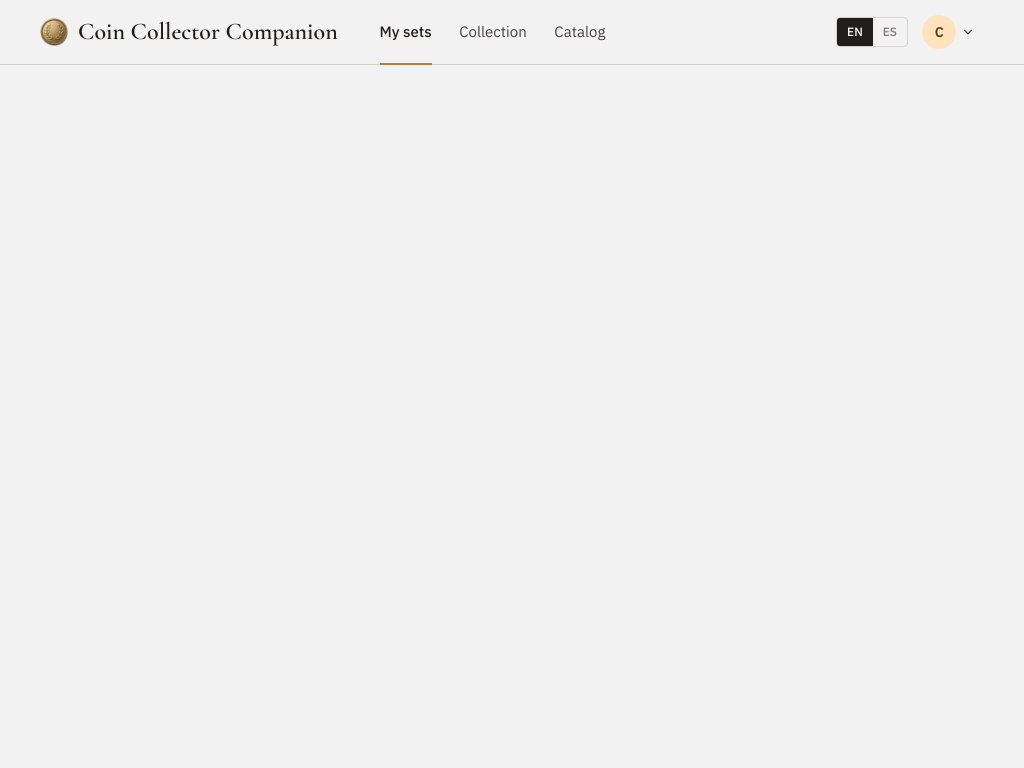
Test case: SiteNav › criterion 4: account menu wiring › closes the menu when clicking outside it
This screenshot has width=1024, height=768.
Click the button with test id "site-nav-account-trigger" at point(951, 32), box [917, 10, 984, 54]
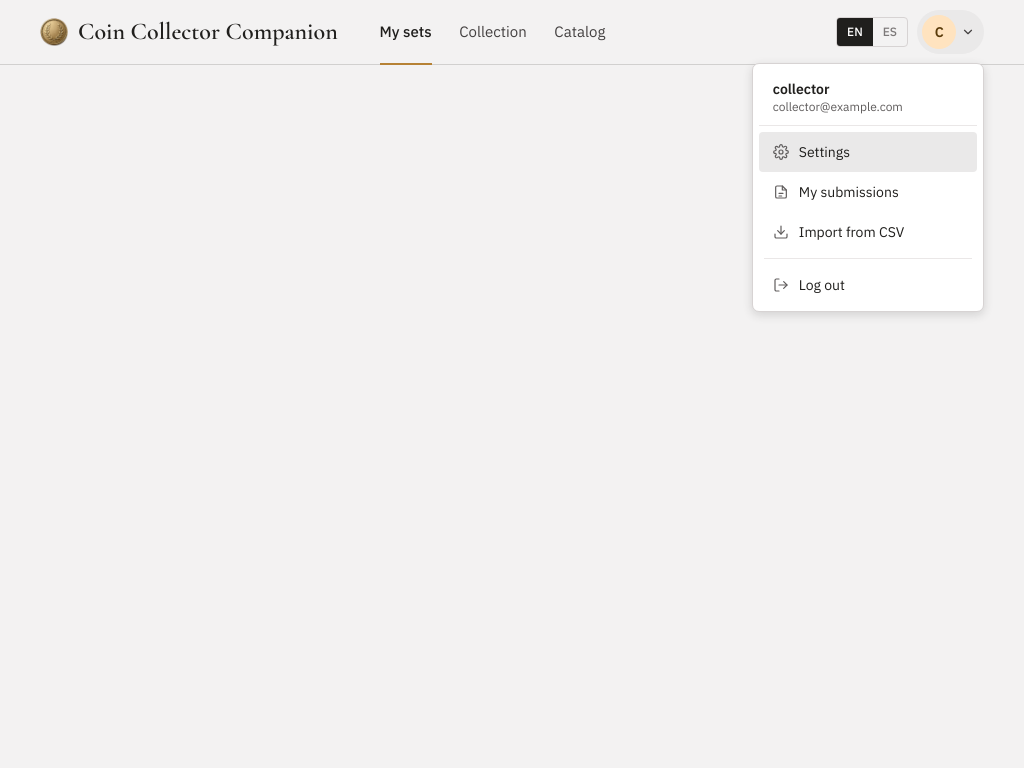
Click the element that starts with "Coin Collector Companion" at point(512, 384), box [0, 0, 1023, 767]
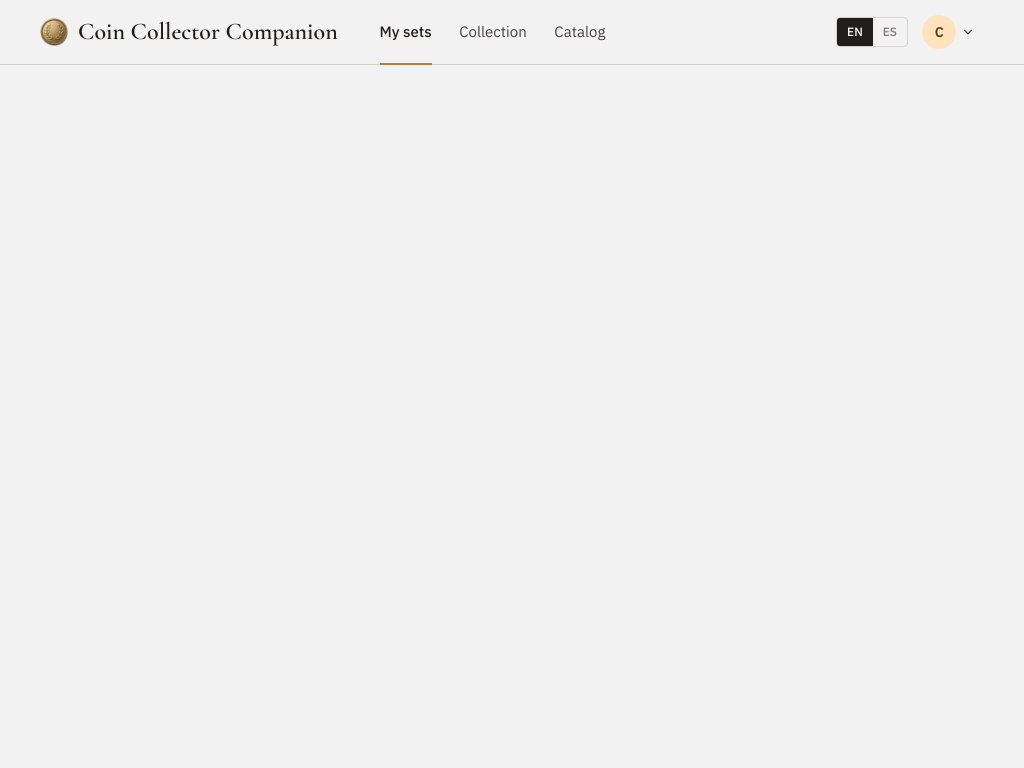
Check: the menu with test id "site-nav-account-menu" is gone
